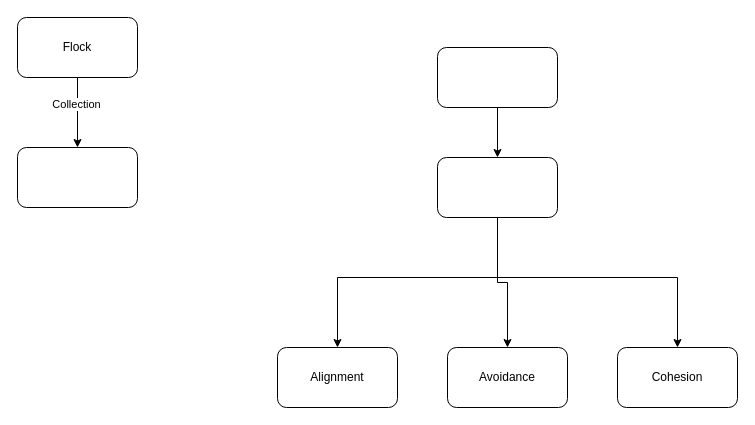
The diagram is 755 pixels wide and 425 high, and some of its shapes have lost their labels. The shapes that lost their labels are listed below. From the top down, each one's centre as x and y in pixels, then its label:
the point at 497,77: Flock Behaviour (SO)
the point at 77,177: FlockAgent
